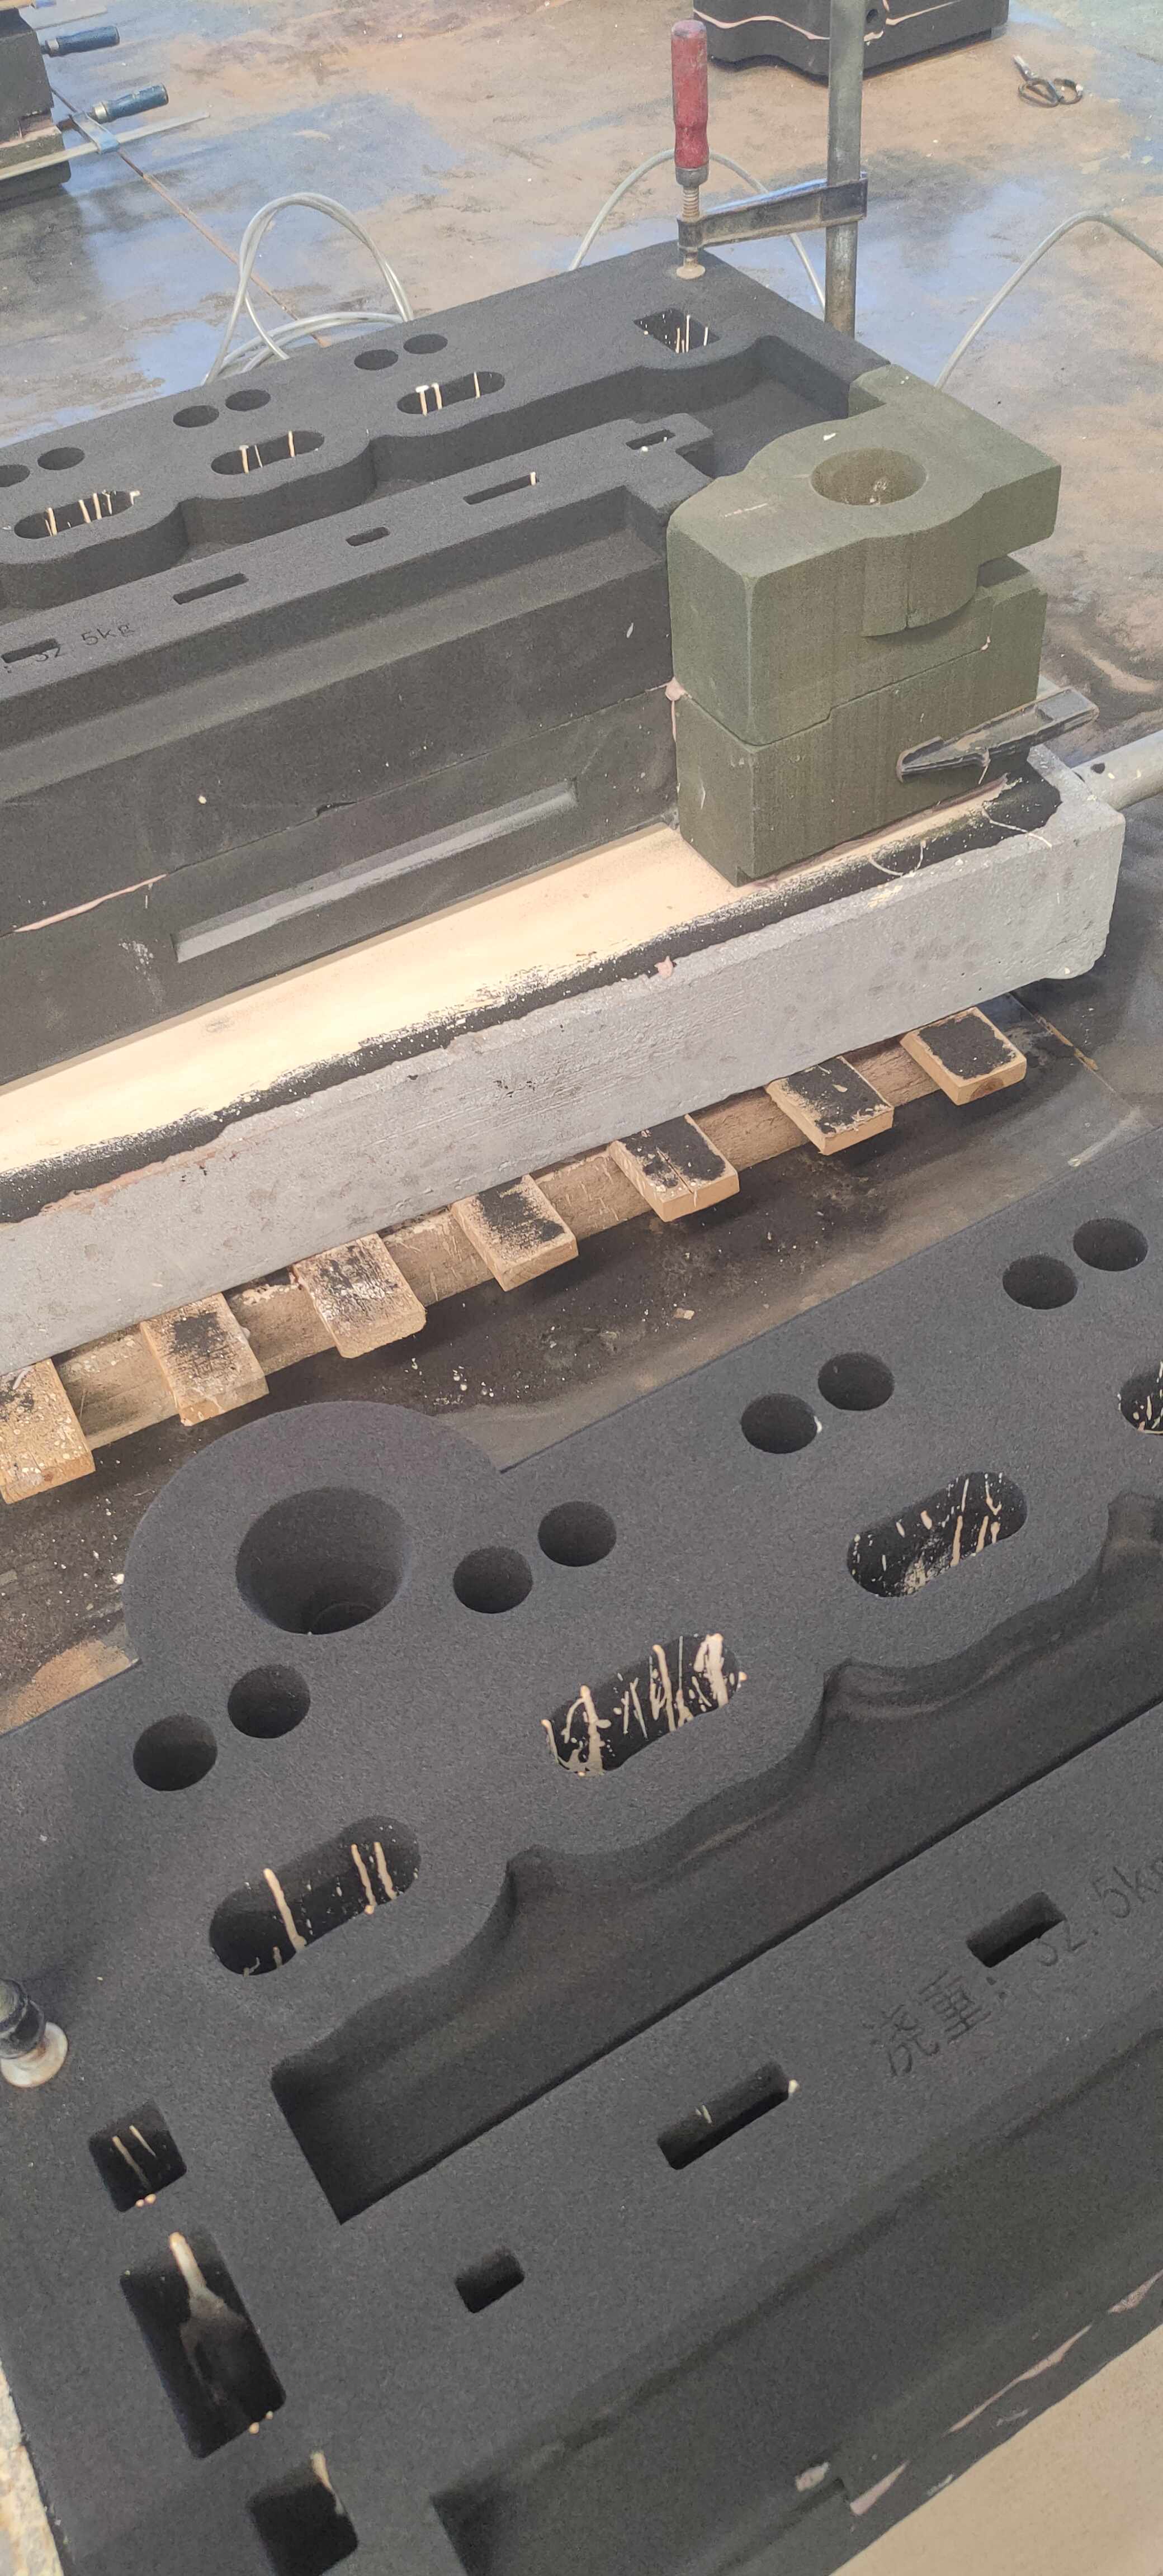pouring hole: (235, 1483, 412, 1635), (808, 449, 928, 506)
